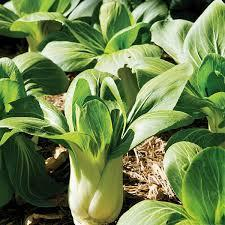Healthy-Pechay: (5, 2, 225, 200)
